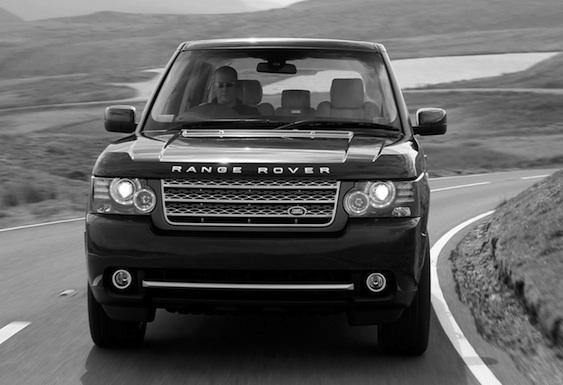car: (80, 35, 450, 360)
